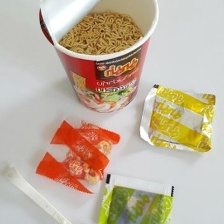paper_cup: (33, 0, 164, 118)
